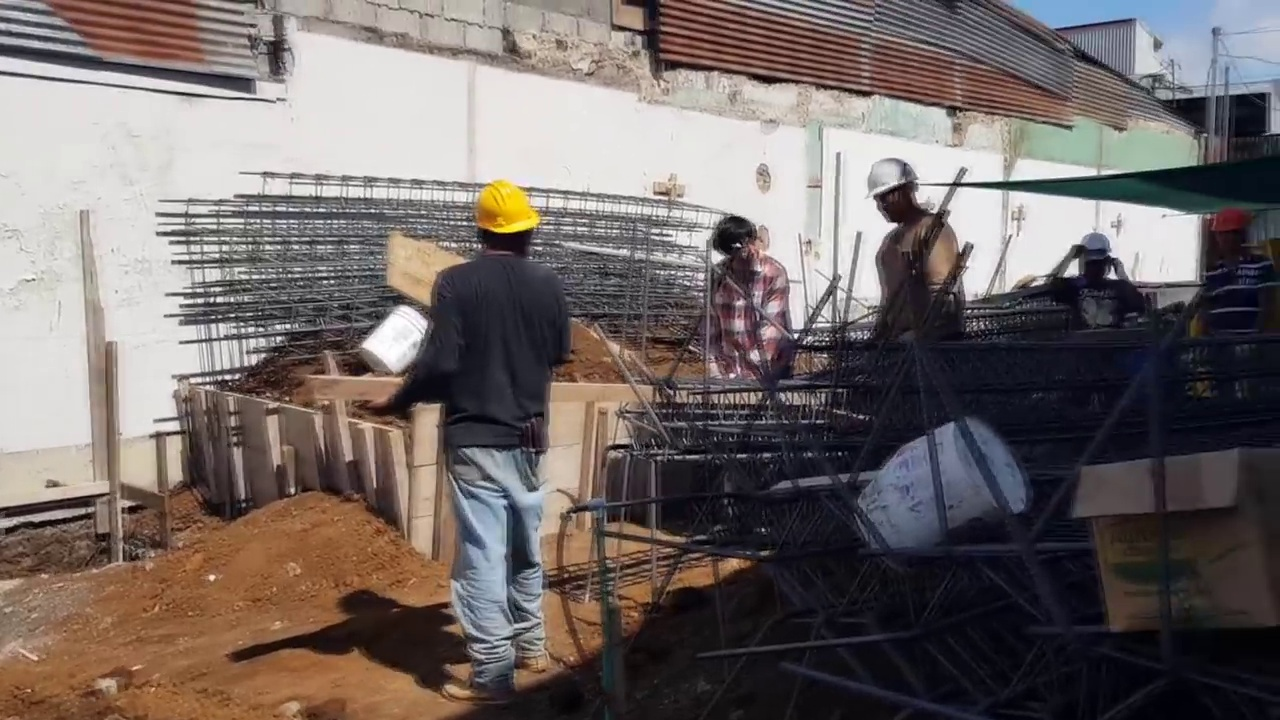helmet: (470, 181, 540, 240), (866, 159, 920, 203), (1208, 207, 1250, 235), (1075, 233, 1116, 260)
helmet-off: (708, 212, 763, 282)
helmet-on: (465, 171, 543, 269), (867, 158, 928, 231), (1208, 207, 1250, 267), (1074, 233, 1117, 276)
person: (364, 178, 571, 696), (866, 156, 975, 352), (702, 205, 795, 389), (1181, 207, 1273, 348), (1070, 236, 1149, 337)
